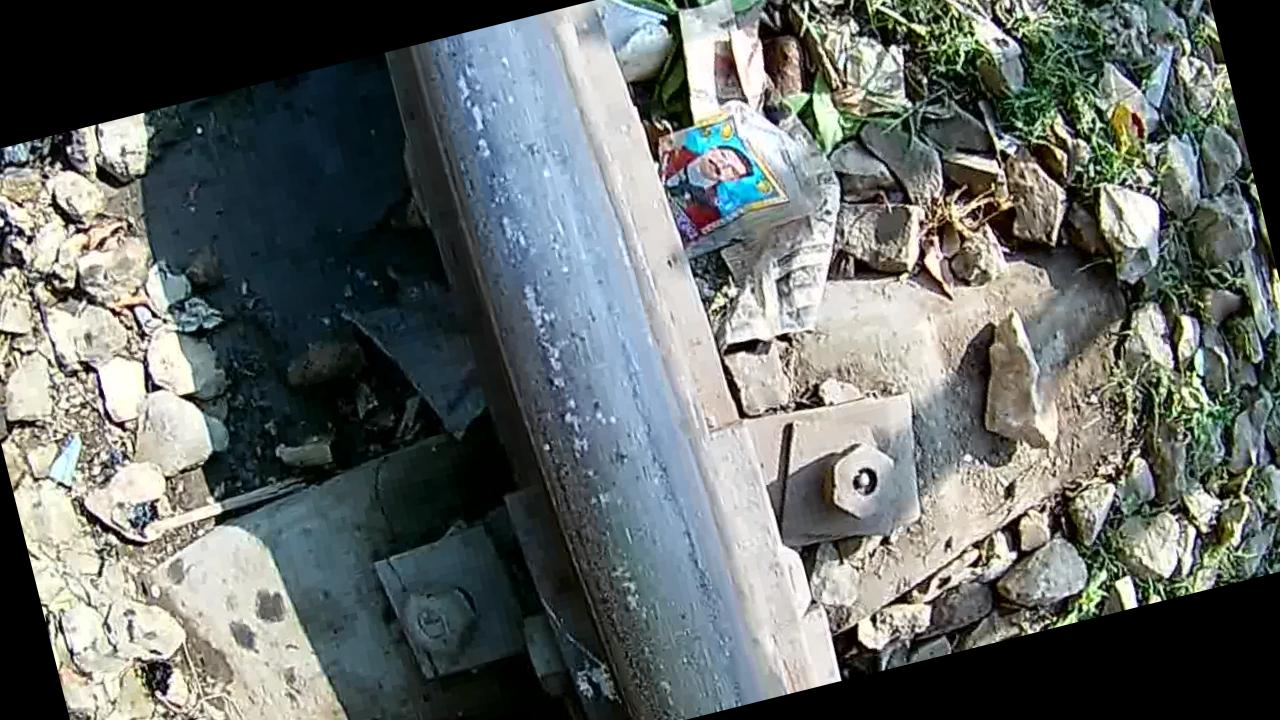clip_missing: (410, 0, 783, 720)
